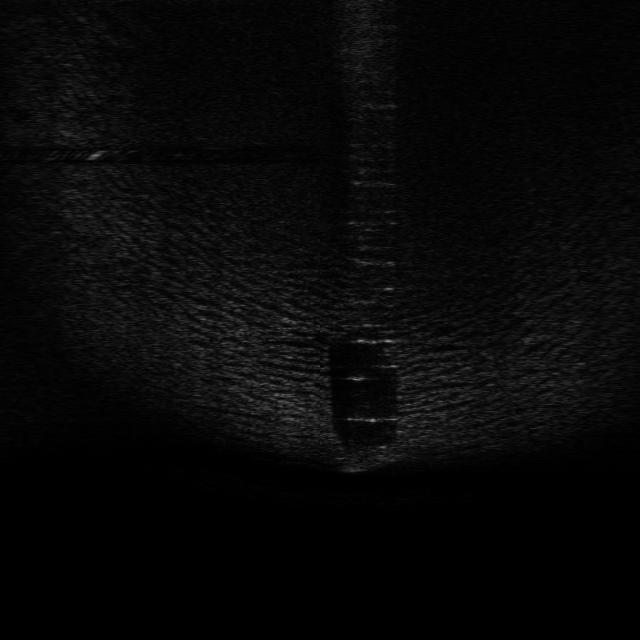cube: (336, 442, 400, 475)
